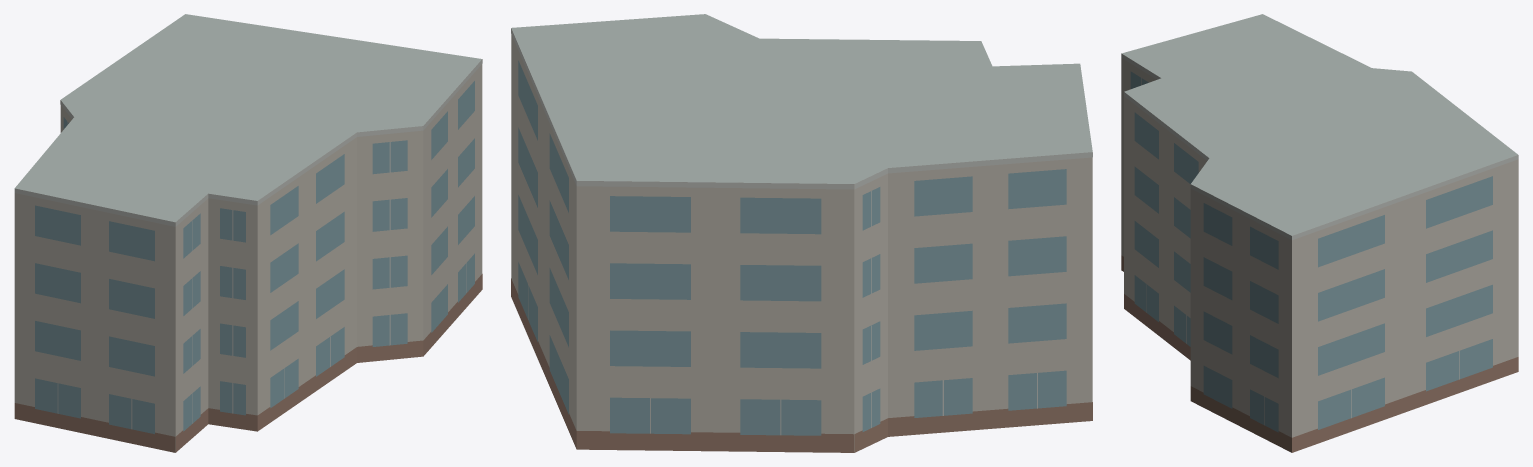
Rendered from residential-0efe8e8e-21bb-4167-9f0b-617bc147fa5f.glb.
3 views of the same model, side by side, from view 1: azimuth 30°, elevation 25°; view 2: azimuth 150°, elevation 25°; view 3: azimuth 270°, elevation 25° (orthographic). The views are drawn at different scales.
Visible parts, largest first — view 1: residential-0efe8e8e-21bb-4167-9f0b-617bc147fa5f.tmp; view 2: residential-0efe8e8e-21bb-4167-9f0b-617bc147fa5f.tmp; view 3: residential-0efe8e8e-21bb-4167-9f0b-617bc147fa5f.tmp.
Part boxes in pixels (x1=…): residential-0efe8e8e-21bb-4167-9f0b-617bc147fa5f.tmp: x1=14, y1=14, x2=482, y2=452; residential-0efe8e8e-21bb-4167-9f0b-617bc147fa5f.tmp: x1=511, y1=14, x2=1092, y2=452; residential-0efe8e8e-21bb-4167-9f0b-617bc147fa5f.tmp: x1=1121, y1=14, x2=1518, y2=452.
Size of the model in its own units: 26.78 by 12.2 by 20.25.
